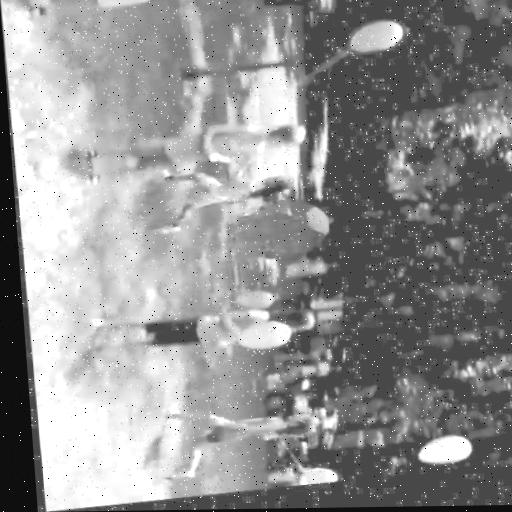balloon: (347, 24, 403, 64), (414, 444, 473, 474), (235, 324, 291, 355), (228, 294, 274, 316), (292, 471, 336, 490)
